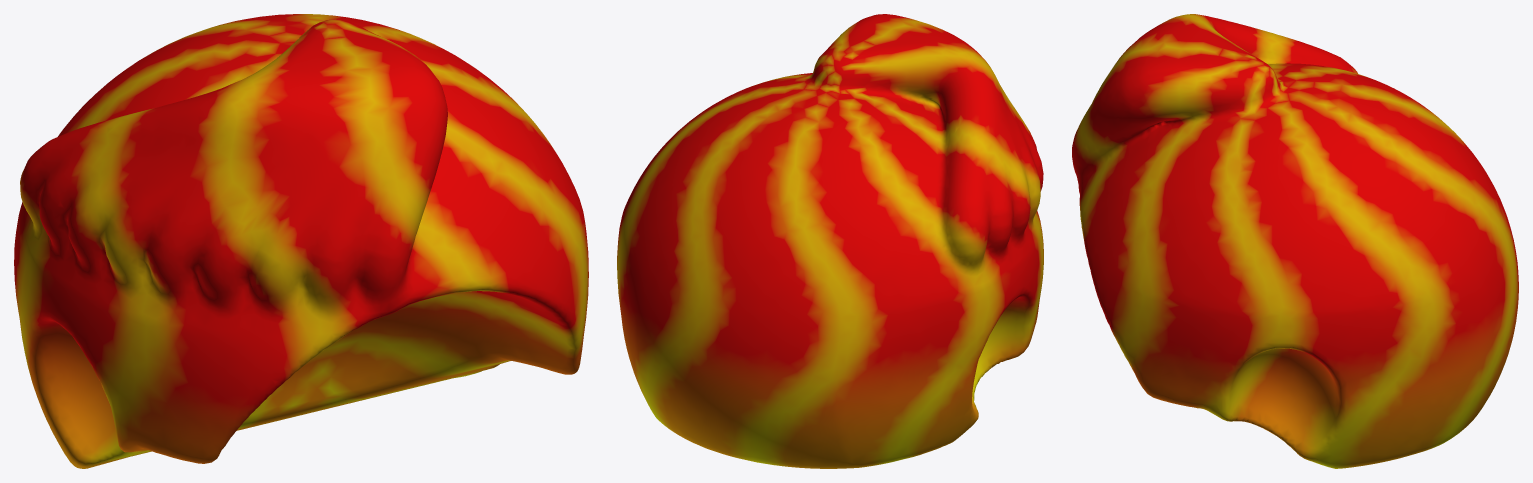
File: undercut.glb
3 views of the same model, side by side, from view 1: azimuth 30°, elevation 25°; view 2: azimuth 150°, elevation 25°; view 3: azimuth 270°, elevation 25° (orthographic). The views are drawn at different scales.
Parts seen in each view (by area): view 1: part; view 2: part; view 3: part.
Boxes of the visible parts, x1,y1,x2,y2 form: part: (14, 14, 588, 468); part: (617, 14, 1043, 468); part: (1072, 14, 1518, 468).
Bounding box in the file's own units: 2.06 × 1.76 × 2.07.
